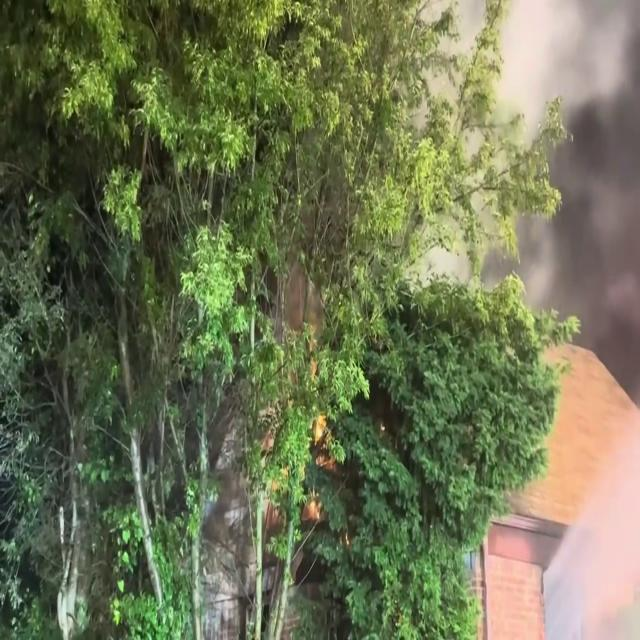Smoke: (515, 0, 639, 325)
